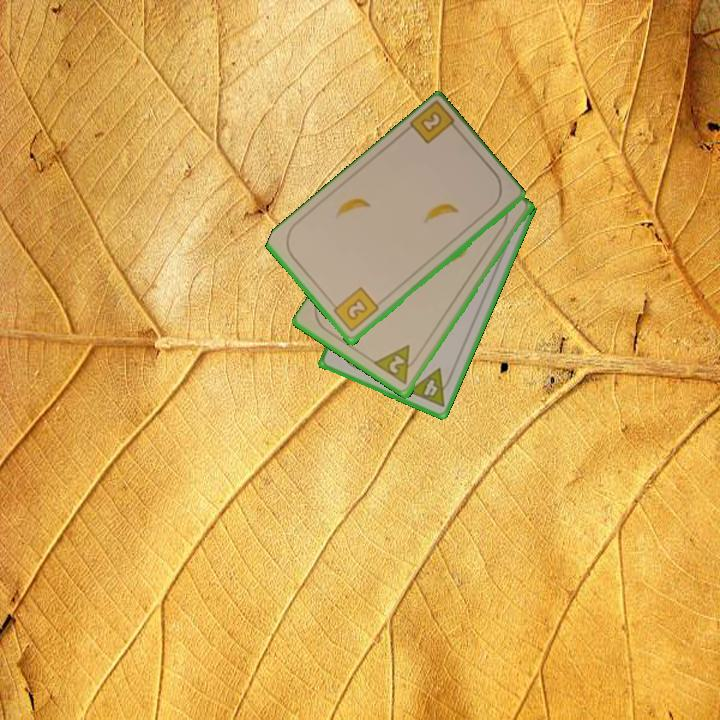2b: (327, 284, 382, 335), (405, 100, 463, 147)
2p: (371, 342, 422, 388)
4p: (404, 365, 456, 410)
